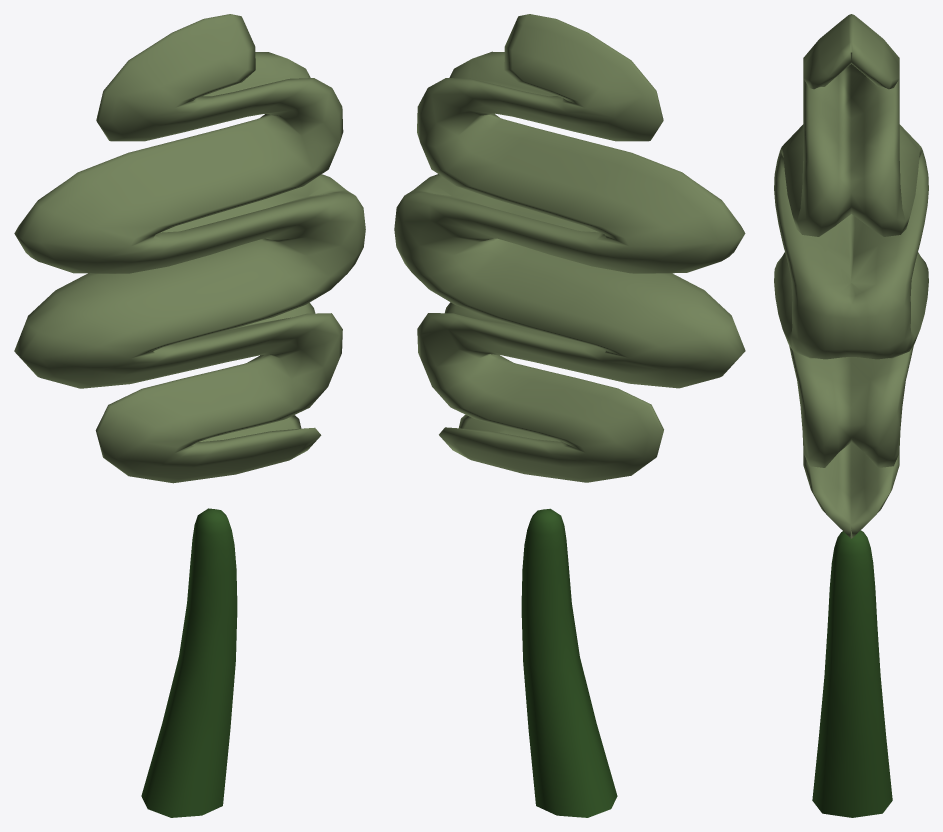
Rendered from tree_floating_1.glb.
3 views of the same model, side by side, from view 1: azimuth 30°, elevation 25°; view 2: azimuth 150°, elevation 25°; view 3: azimuth 270°, elevation 25° (orthographic).
Parts seen in each view (by area): view 1: Tree_Floating_1; view 2: Tree_Floating_1; view 3: Tree_Floating_1.
Boxes of the visible parts, x1,y1,x2,y2 form: Tree_Floating_1: (14, 14, 365, 817); Tree_Floating_1: (394, 14, 745, 817); Tree_Floating_1: (774, 14, 928, 817).
Size of the model in its own units: 2.09 by 4.61 by 0.8258.
Materials: 1 (1 with a texture image).
